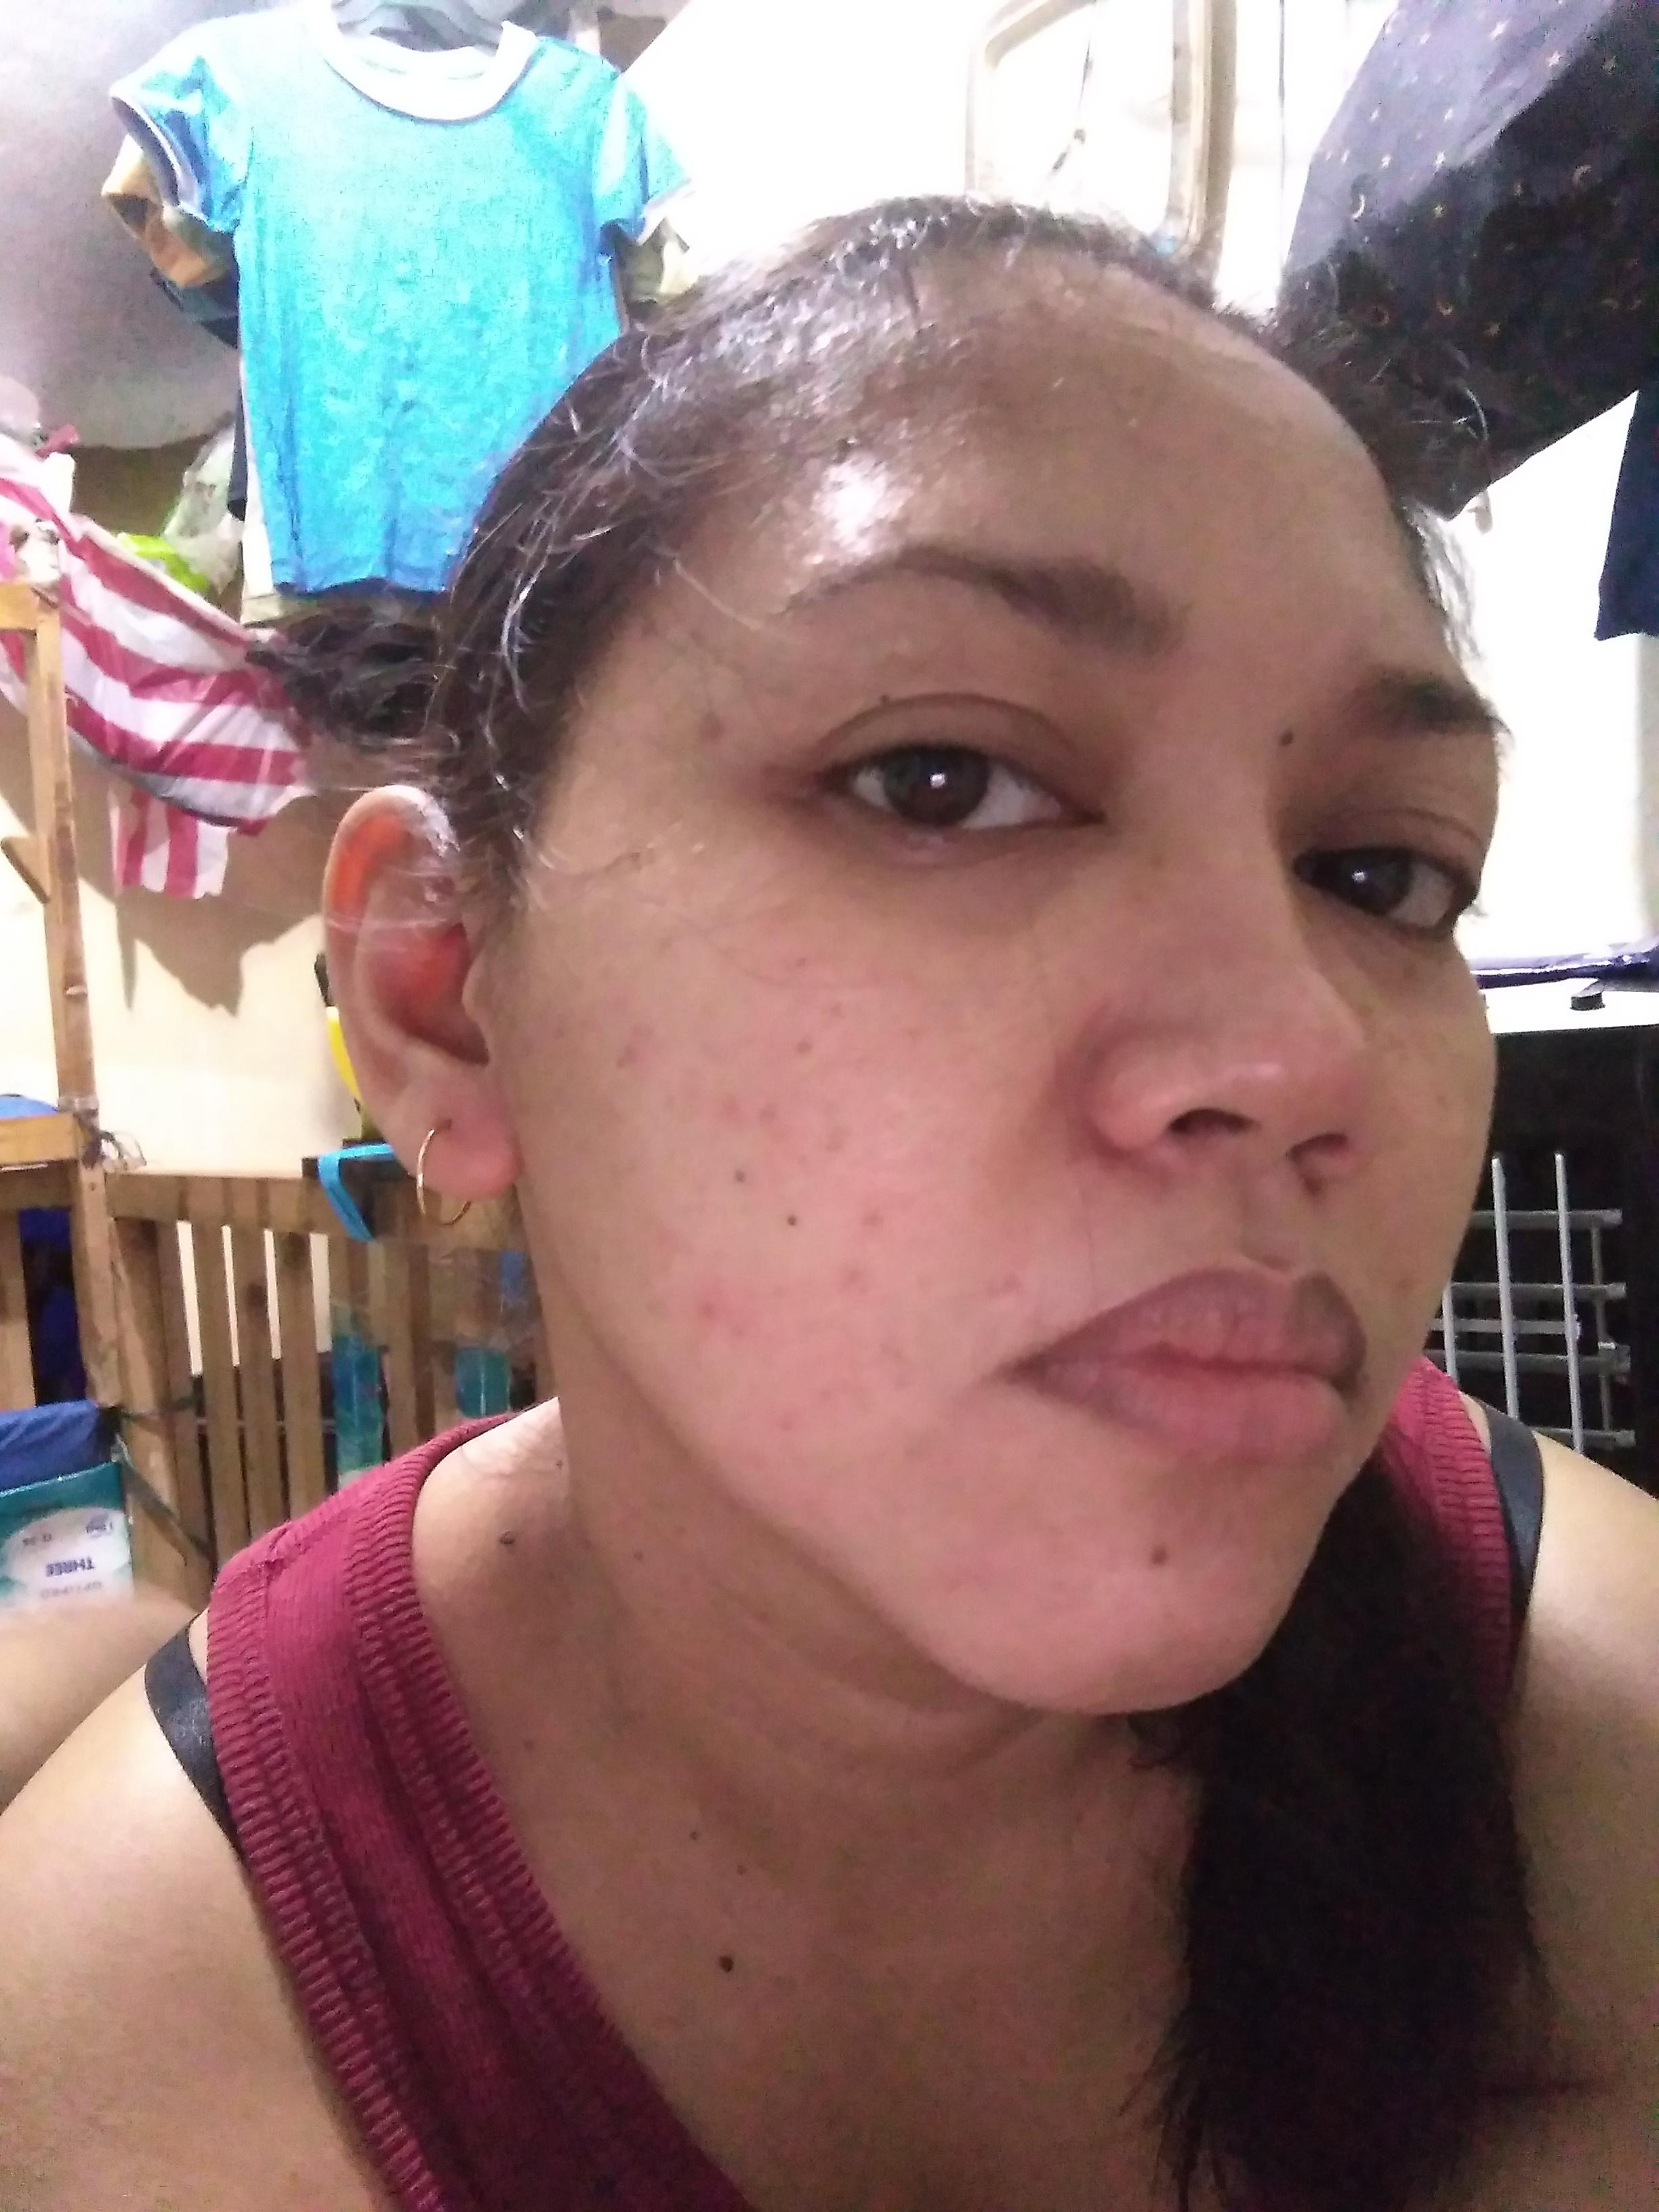Acne: (685, 1282, 742, 1339), (688, 705, 735, 775), (823, 1258, 878, 1301), (765, 1406, 835, 1440), (610, 1026, 652, 1073), (990, 1258, 1032, 1299), (1389, 1266, 1425, 1310), (852, 1200, 889, 1242), (714, 1090, 753, 1122)
Eyebags: (765, 801, 1133, 954), (1295, 873, 1469, 1014)
